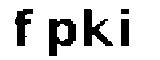f: (10, 6, 37, 50)
i: (117, 4, 140, 51)
k: (80, 5, 114, 53)
p: (45, 15, 77, 60)
